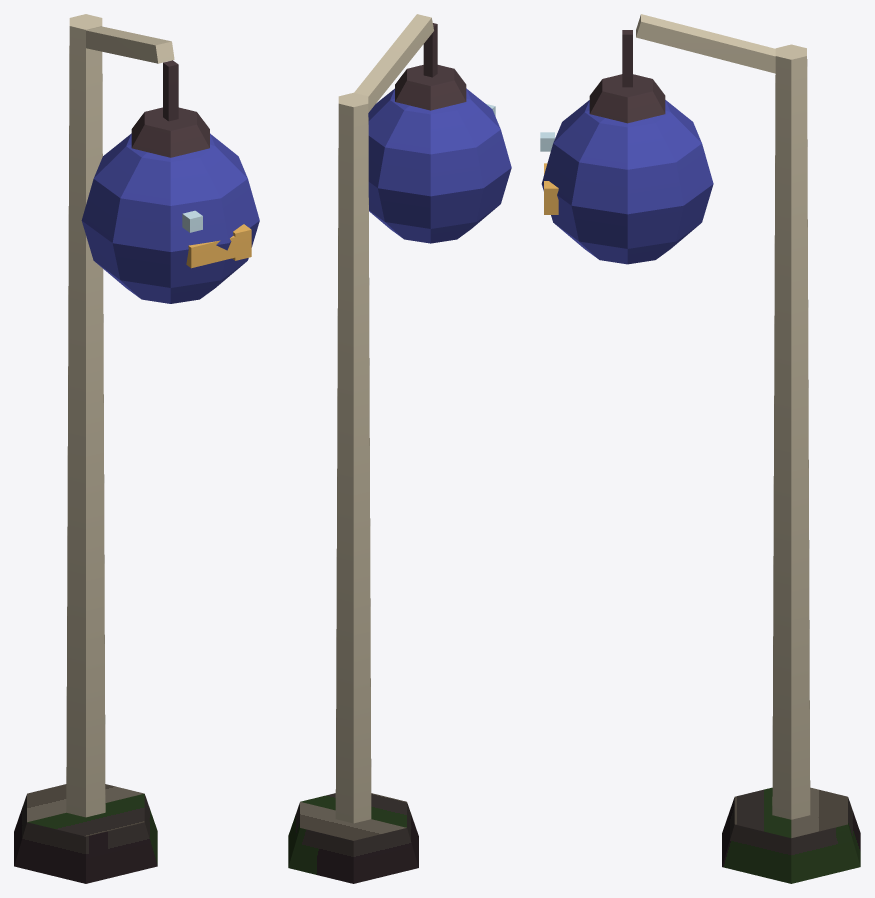
File: orb_lantern.glb
The picture shows the model from 3 angles, left to right: view 1: azimuth 30°, elevation 25°; view 2: azimuth 150°, elevation 25°; view 3: azimuth 270°, elevation 25°; orthographic projection. The views are drawn at different scales.
Parts seen in each view (by area): view 1: orb_lantern; view 2: orb_lantern; view 3: orb_lantern.
Boxes of the visible parts, x1=… form: orb_lantern: x1=14, y1=14, x2=259, y2=883; orb_lantern: x1=288, y1=14, x2=511, y2=883; orb_lantern: x1=540, y1=14, x2=860, y2=883.
Bounding box in the file's own units: 0.4655 × 2.52 × 0.8805.
3 materials, 1 textured.
